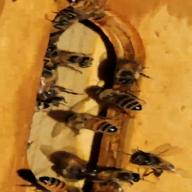Bee: (41, 104, 130, 144), (83, 86, 156, 116), (24, 164, 94, 192), (40, 49, 90, 73)
